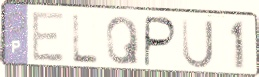1: (228, 18, 248, 74)
E: (30, 10, 67, 65)
L: (70, 13, 101, 66)
P: (142, 15, 179, 70)
Q: (104, 15, 142, 67)
U: (179, 17, 215, 71)
